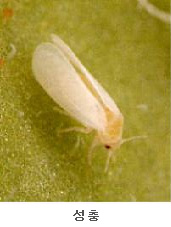whitefly: (29, 31, 150, 174)
